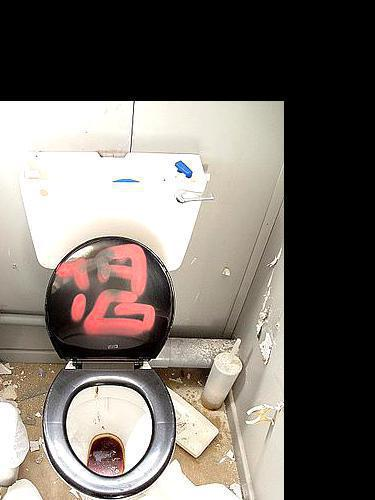Bote de Basura: (0, 398, 26, 493)
Sanitario: (27, 158, 203, 500)
